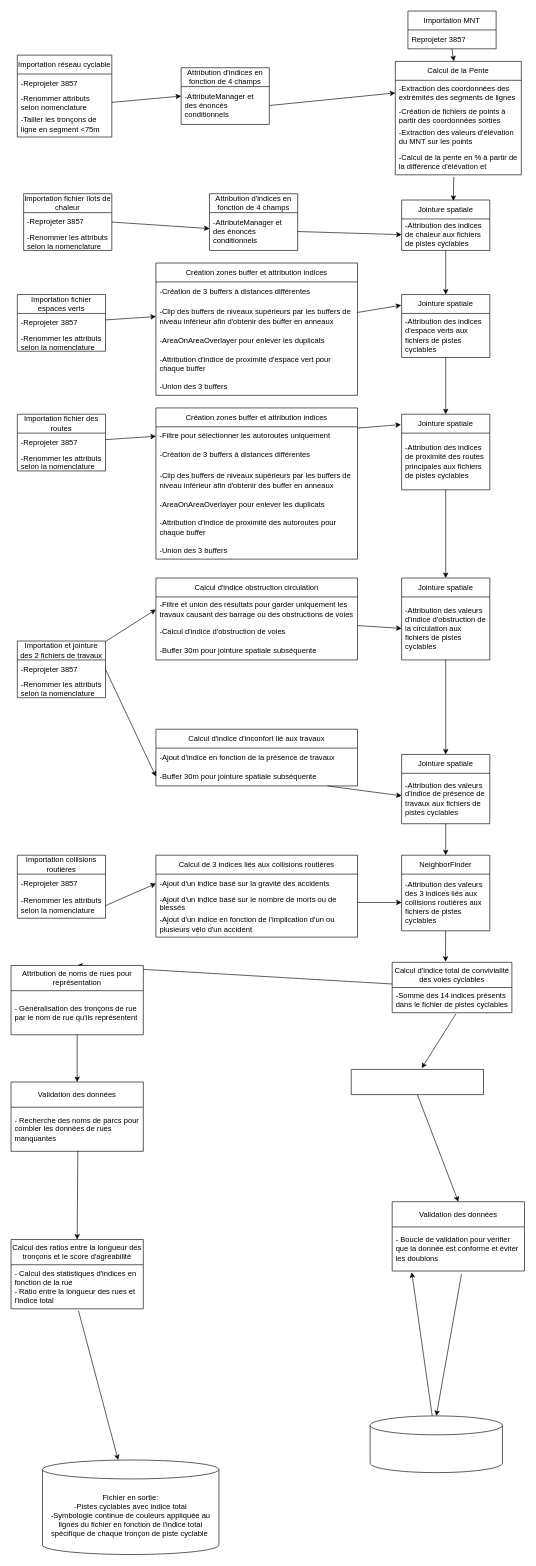
Some shapes in this 536 by 1566 pixel diagram are drawn without their labels. The centre of each missing label's shape, as x and y in pixels:
Fichier en sortie: - Table de travaux en cours et passé: point 435,1444
Isolation des données d'obstruction des travaux: point 417,1082
